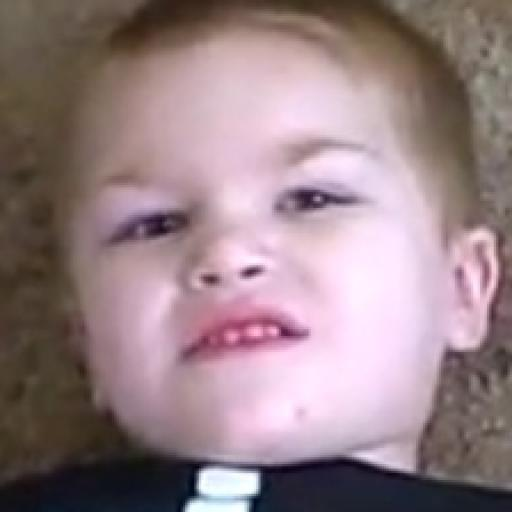Autism: (68, 17, 512, 469)
